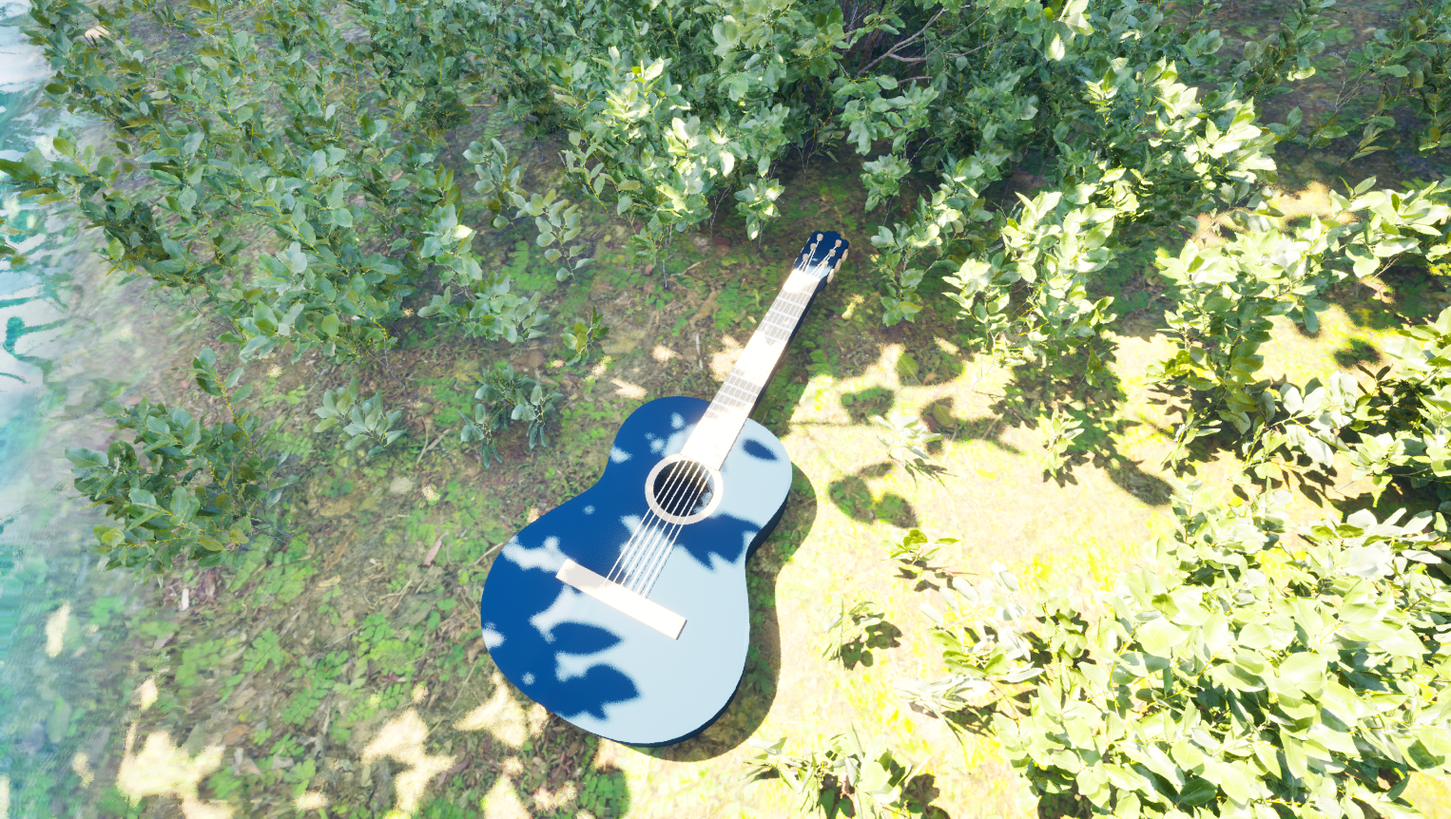Guitar: (433, 193, 926, 793)
